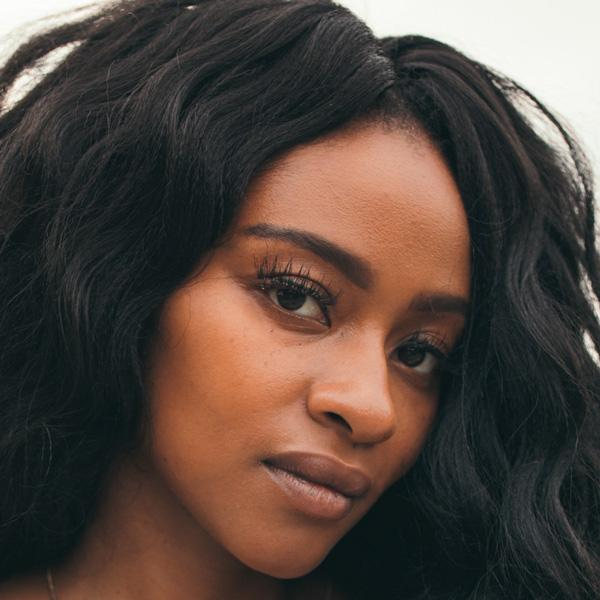Eyes: (241, 258, 341, 338), (381, 321, 449, 389)
